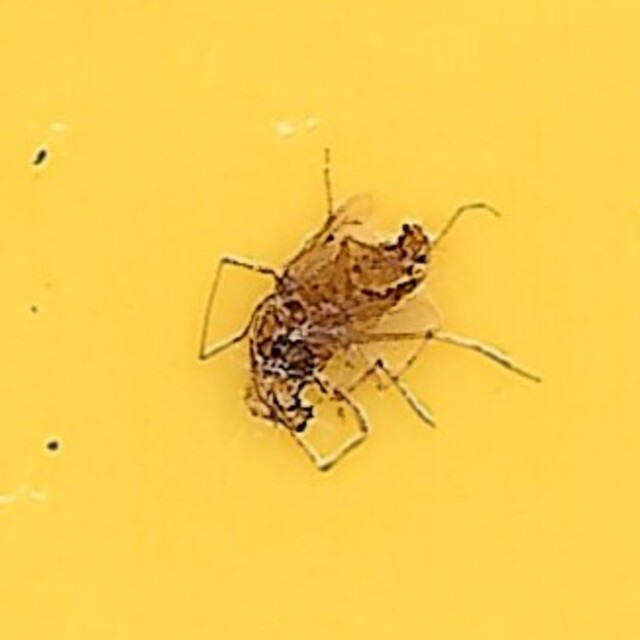Nematocera: (196, 206, 444, 434)
